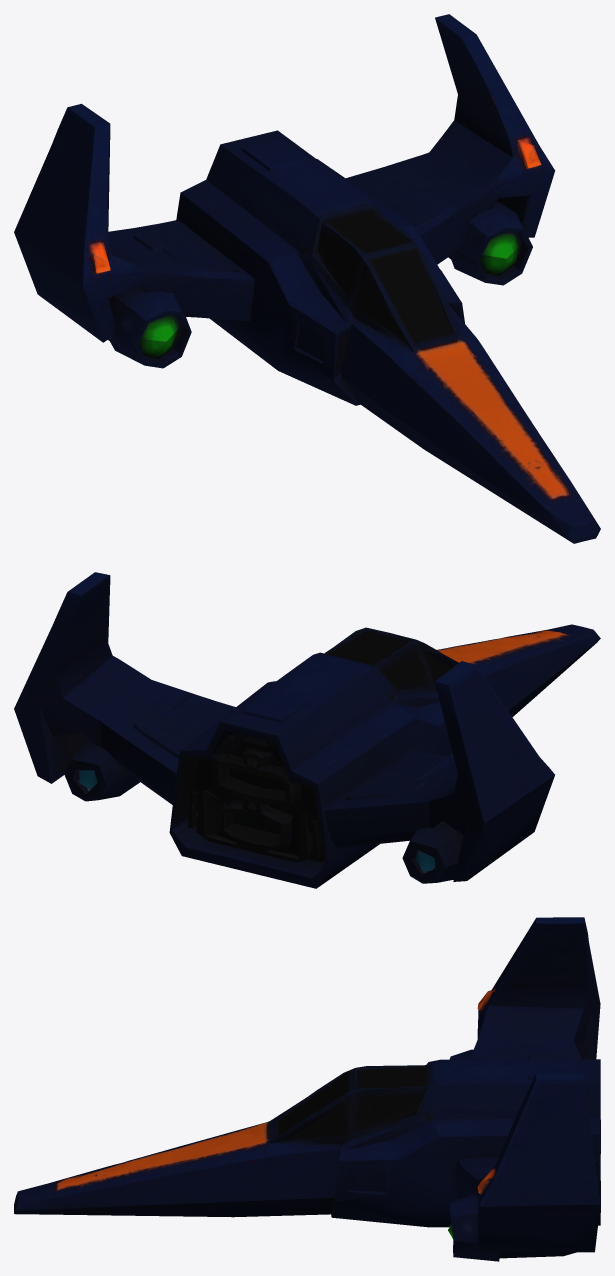
Rendered from nave_11.obj.
The picture shows the model from 3 angles, top to bottom: view 1: azimuth 30°, elevation 25°; view 2: azimuth 150°, elevation 25°; view 3: azimuth 270°, elevation 25°; orthographic projection. The views are drawn at different scales.
Visible parts, largest first — view 1: geometry_0; view 2: geometry_0; view 3: geometry_0.
Part boxes in pixels (box(x1,y1,x2,y2)): geometry_0: box(14, 14, 600, 543); geometry_0: box(14, 572, 600, 888); geometry_0: box(14, 917, 600, 1261).
Size of the model in its own units: 5.68 by 2.77 by 7.
7 materials, 1 textured.
